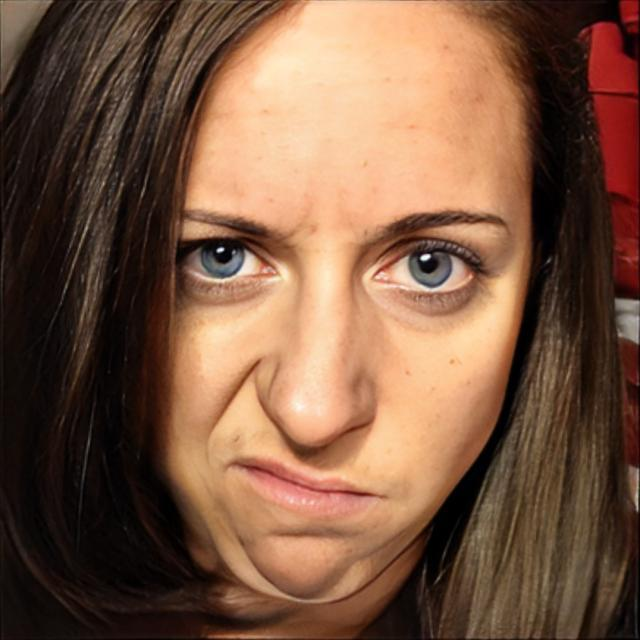disgust: (120, 0, 536, 610)
